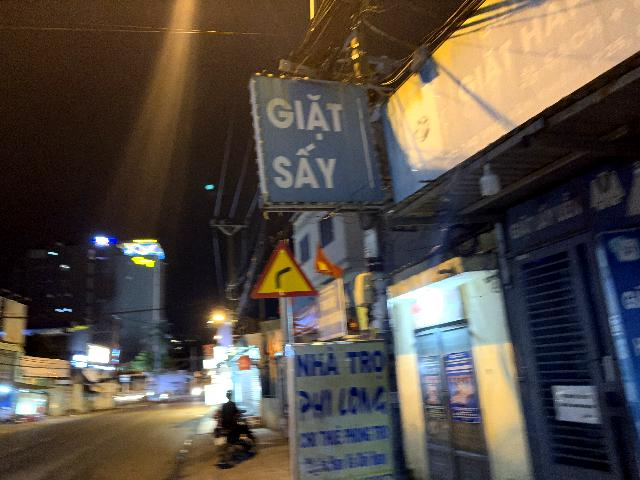cho-ngoat-nguy-hiem-ben-phai: (249, 240, 316, 298)
